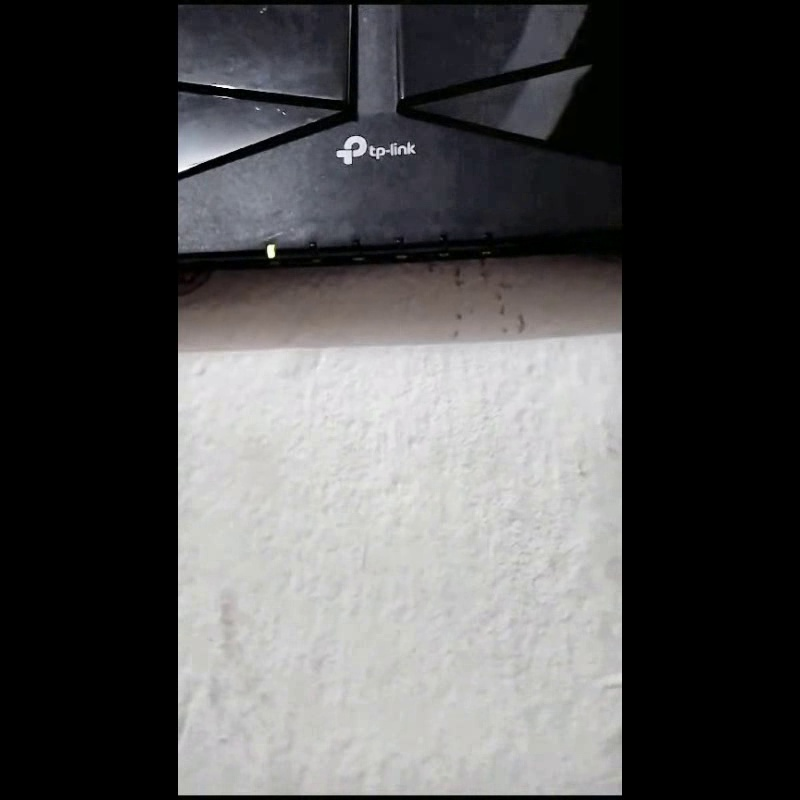off: (482, 231, 492, 250), (307, 240, 318, 257), (351, 238, 361, 255), (438, 233, 448, 250), (394, 236, 403, 251)
on_green: (266, 243, 275, 259)
